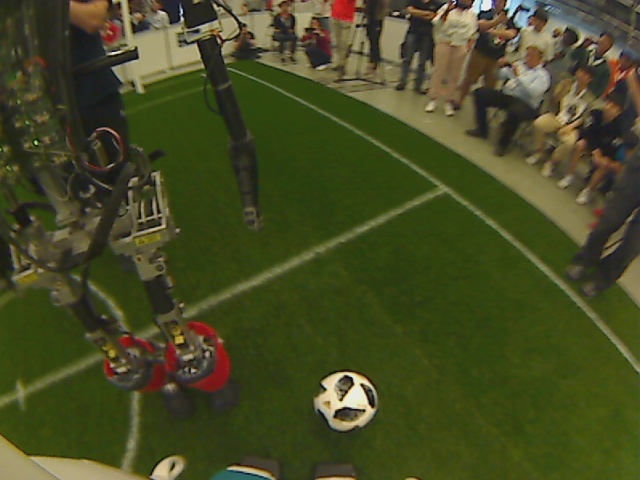ball: (311, 370, 380, 433)
